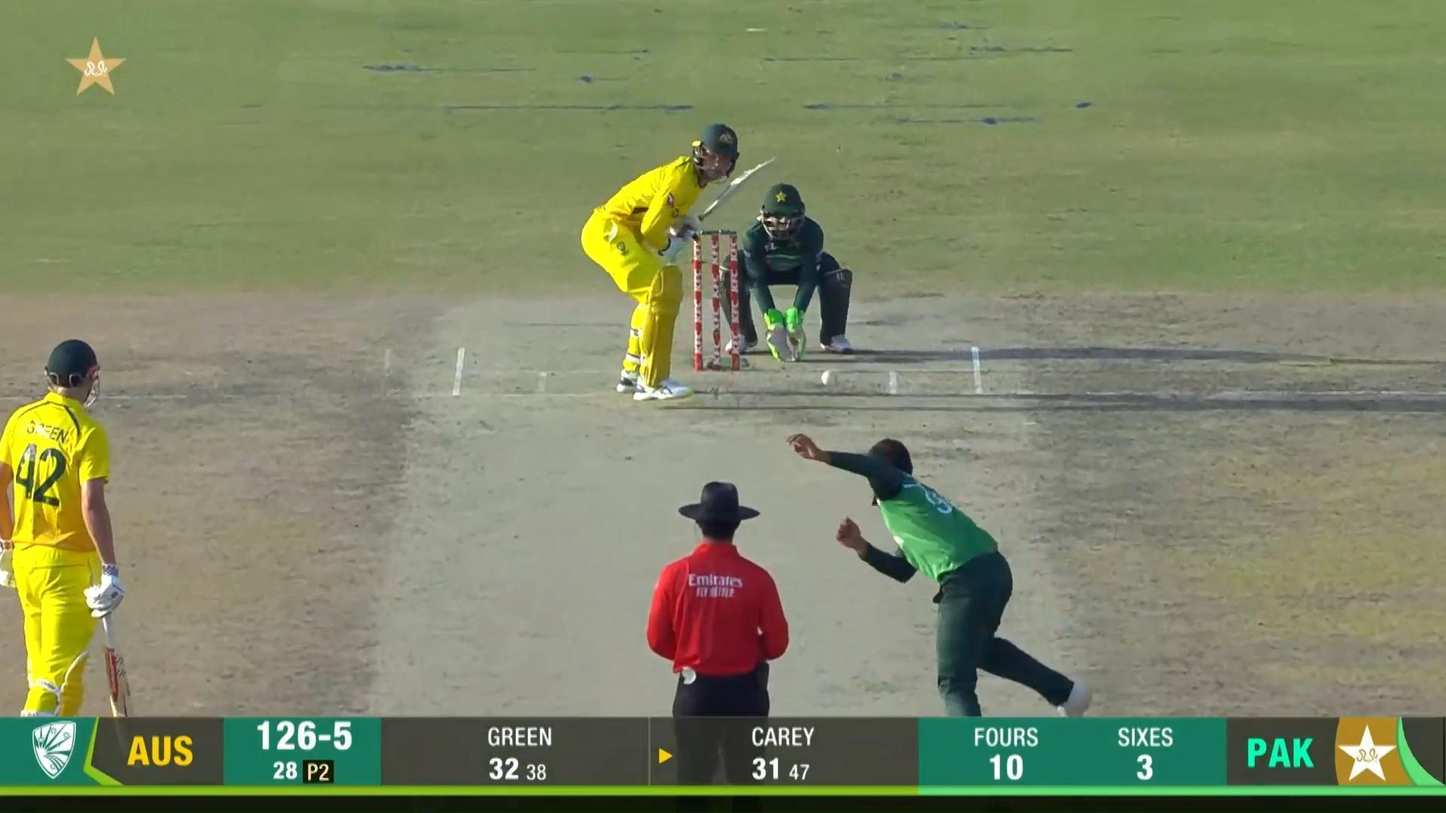BM 1: (581, 124, 777, 402)
BO: (785, 430, 1094, 719)
